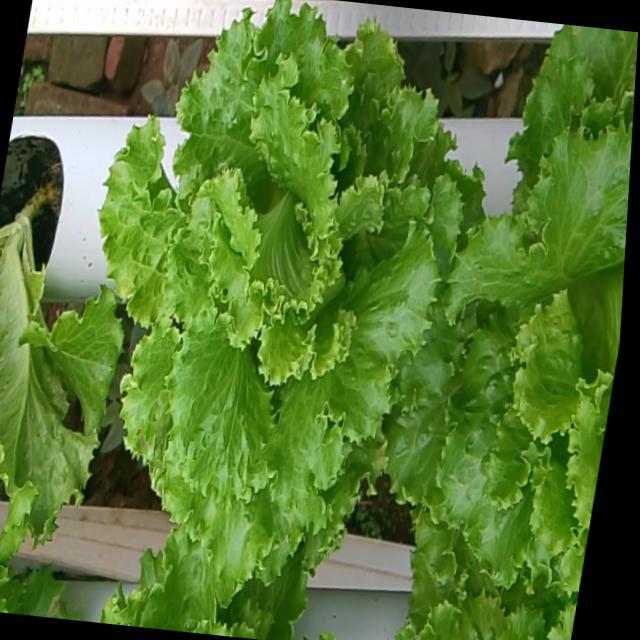Mature: (102, 0, 465, 574), (388, 111, 633, 580)
